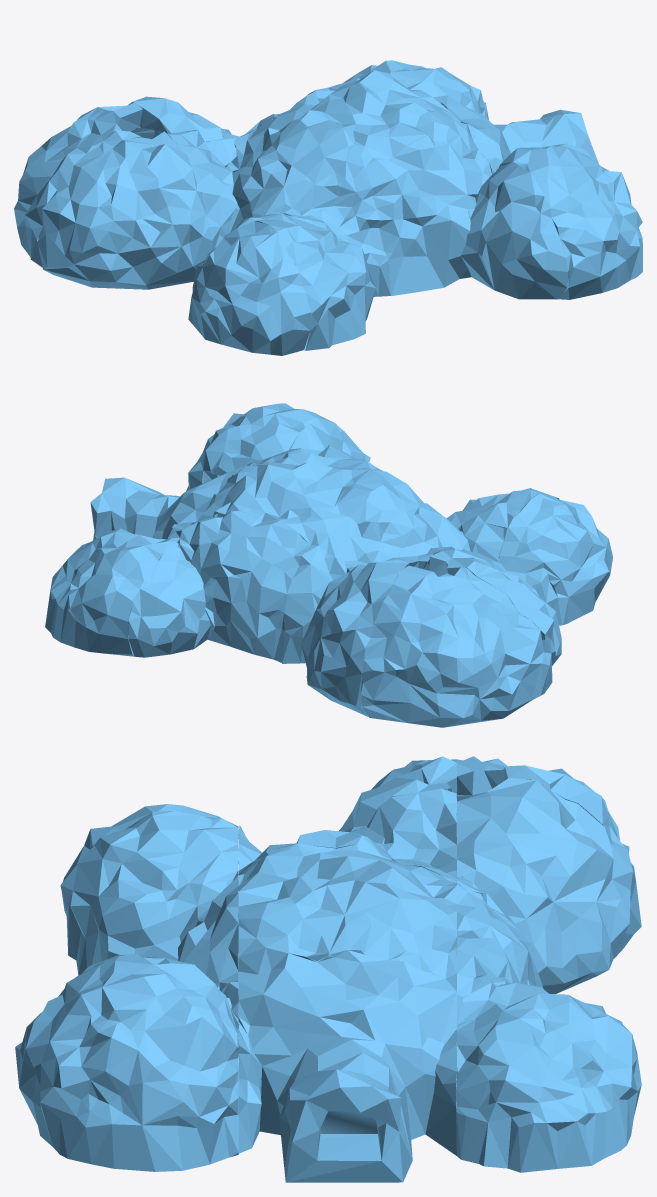
File: Cave_PHYS.dae
3 renders of one model, top to bottom at view 1: azimuth 30°, elevation 25°; view 2: azimuth 150°, elevation 25°; view 3: azimuth 270°, elevation 25°, orthographic. The views are drawn at different scales.
Visible parts, largest first — view 1: Cave_Rock_20_PHYS, Cave_Rock_01_PHYS, Cave_Rock_11_PHYS, Cave_Rock_10_PHYS, Cave_Rock_00_PHYS, Cave_Rock_30_PHYS, Cave_Rock_21_PHYS, Cave_Rock_02_PHYS, Cave_Rock_31_PHYS, Cave_Rock_32_PHYS, Cave_Rock_12_PHYS; view 2: Cave_Rock_02_PHYS, Cave_Rock_22_PHYS, Cave_Rock_12_PHYS, Cave_Rock_11_PHYS, Cave_Rock_32_PHYS, Cave_Rock_21_PHYS, Cave_Rock_00_PHYS, Cave_Rock_01_PHYS, Cave_Rock_31_PHYS, Cave_Rock_30_PHYS, Cave_Rock_10_PHYS, Cave_Rock_20_PHYS; view 3: Cave_Rock_31_PHYS, Cave_Rock_30_PHYS, Cave_Rock_32_PHYS, Cave_Rock_12_PHYS, Cave_Rock_21_PHYS, Cave_Rock_10_PHYS, Cave_Rock_11_PHYS, Cave_Rock_22_PHYS, Cave_Rock_20_PHYS, Cave_Rock_02_PHYS, Cave_Rock_01_PHYS, Cave_Rock_00_PHYS (+1 smaller).
Part boxes in pixels (x1,y1,x2,y2): Cave_Rock_20_PHYS: [365, 135, 567, 299]; Cave_Rock_01_PHYS: [37, 131, 243, 291]; Cave_Rock_11_PHYS: [167, 110, 364, 250]; Cave_Rock_10_PHYS: [250, 168, 390, 350]; Cave_Rock_00_PHYS: [188, 217, 311, 355]; Cave_Rock_30_PHYS: [486, 143, 642, 299]; Cave_Rock_21_PHYS: [289, 70, 484, 187]; Cave_Rock_02_PHYS: [14, 102, 142, 267]; Cave_Rock_31_PHYS: [433, 95, 598, 163]; Cave_Rock_32_PHYS: [343, 60, 488, 119]; Cave_Rock_12_PHYS: [128, 96, 278, 142]; Cave_Rock_02_PHYS: [361, 564, 549, 727]; Cave_Rock_22_PHYS: [128, 510, 309, 662]; Cave_Rock_12_PHYS: [282, 545, 425, 716]; Cave_Rock_11_PHYS: [311, 470, 507, 573]; Cave_Rock_32_PHYS: [45, 522, 192, 656]; Cave_Rock_21_PHYS: [198, 445, 382, 550]; Cave_Rock_00_PHYS: [508, 493, 612, 624]; Cave_Rock_01_PHYS: [429, 527, 562, 698]; Cave_Rock_31_PHYS: [90, 461, 254, 559]; Cave_Rock_30_PHYS: [186, 403, 336, 491]; Cave_Rock_10_PHYS: [447, 488, 559, 551]; Cave_Rock_20_PHYS: [289, 417, 370, 472]; Cave_Rock_31_PHYS: [238, 950, 456, 1182]; Cave_Rock_30_PHYS: [15, 955, 238, 1171]; Cave_Rock_32_PHYS: [457, 974, 641, 1172]; Cave_Rock_12_PHYS: [457, 778, 641, 993]; Cave_Rock_21_PHYS: [238, 843, 456, 981]; Cave_Rock_10_PHYS: [60, 811, 238, 994]; Cave_Rock_11_PHYS: [238, 788, 456, 882]; Cave_Rock_22_PHYS: [457, 883, 605, 1013]; Cave_Rock_20_PHYS: [58, 876, 238, 1076]; Cave_Rock_02_PHYS: [457, 756, 635, 878]; Cave_Rock_01_PHYS: [238, 756, 456, 833]; Cave_Rock_00_PHYS: [63, 804, 238, 920].
Size of the model in its own units: 45.89 by 37.43 by 14.53.
